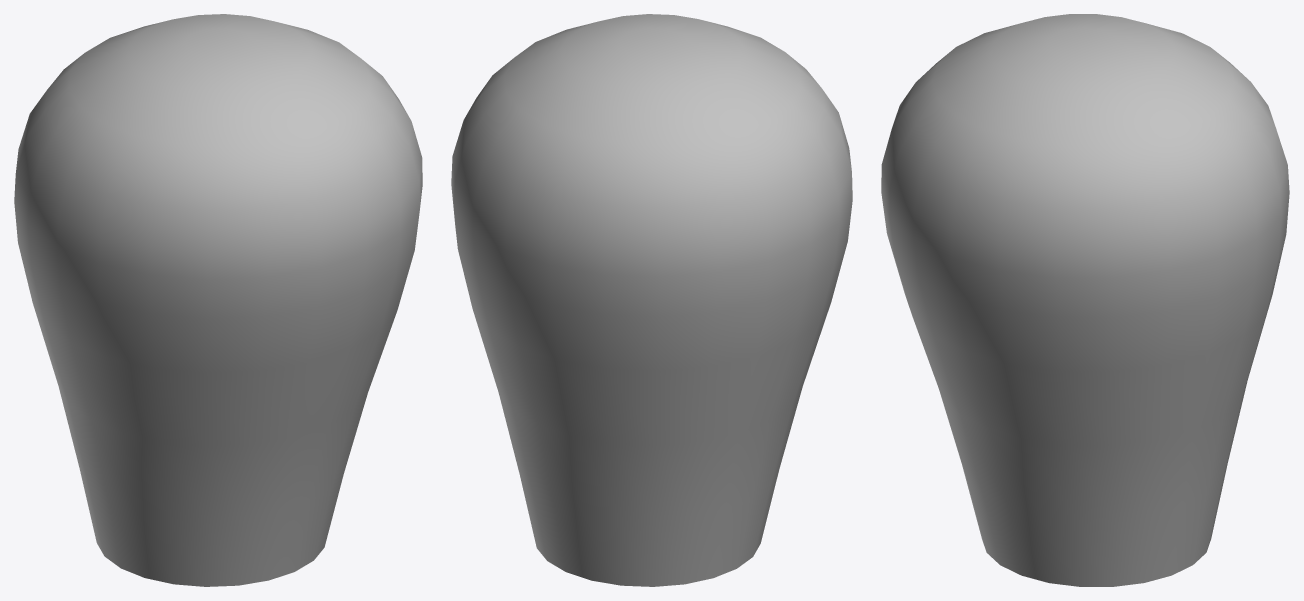
File: All_1.DAE
3 renders of one model, left to right at view 1: azimuth 30°, elevation 25°; view 2: azimuth 150°, elevation 25°; view 3: azimuth 270°, elevation 25°, orthographic.
Parts seen in each view (by area): view 1: Skafandr; view 2: Skafandr; view 3: Skafandr.
Boxes of the visible parts, <box> form: Skafandr: <box>14,14,422,586</box>; Skafandr: <box>451,14,852,586</box>; Skafandr: <box>881,14,1289,586</box>.
Bounding box in the file's own units: 80.77 × 110 × 81.6.
